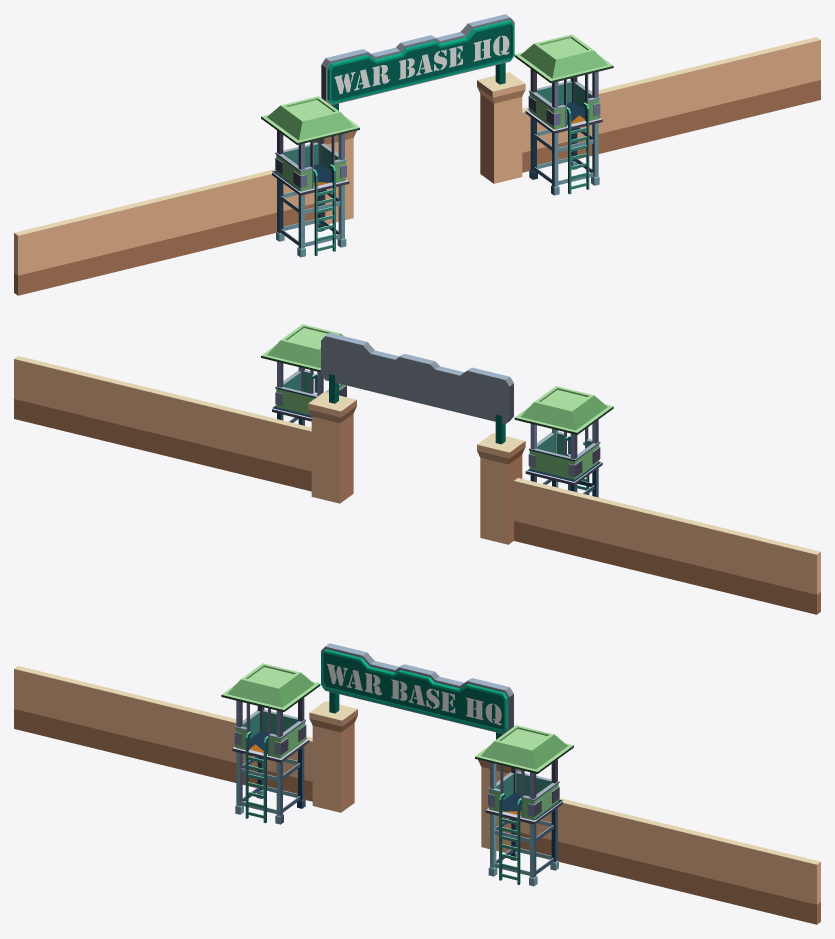
File: Gate.fbx
3 renders of one model, top to bottom at view 1: azimuth 30°, elevation 25°; view 2: azimuth 150°, elevation 25°; view 3: azimuth 330°, elevation 25°, orthographic.
Visible parts, largest first — view 1: wall31, Guard_Tower3, column1, column, typeMesh3; view 2: wall31, Guard_Tower3, column1, column, column2; view 3: wall31, Guard_Tower3, column1, column, typeMesh3.
Boxes of the visible parts, left/top/right/bottom form: wall31: left=14, top=37, right=820, bottom=295; Guard_Tower3: left=261, top=34, right=613, bottom=257; column1: left=321, top=14, right=514, bottom=105; column: left=313, top=72, right=525, bottom=223; typeMesh3: left=334, top=35, right=509, bottom=94; wall31: left=14, top=356, right=820, bottom=614; Guard_Tower3: left=261, top=324, right=613, bottom=497; column1: left=321, top=333, right=513, bottom=423; column: left=308, top=392, right=525, bottom=544; column2: left=329, top=374, right=505, bottom=444; wall31: left=14, top=666, right=820, bottom=924; Guard_Tower3: left=221, top=663, right=573, bottom=886; column1: left=321, top=643, right=513, bottom=734; column: left=309, top=701, right=521, bottom=852; typeMesh3: left=326, top=663, right=501, bottom=725.
Bounding box in the file's own units: 2800 × 531 × 281.
